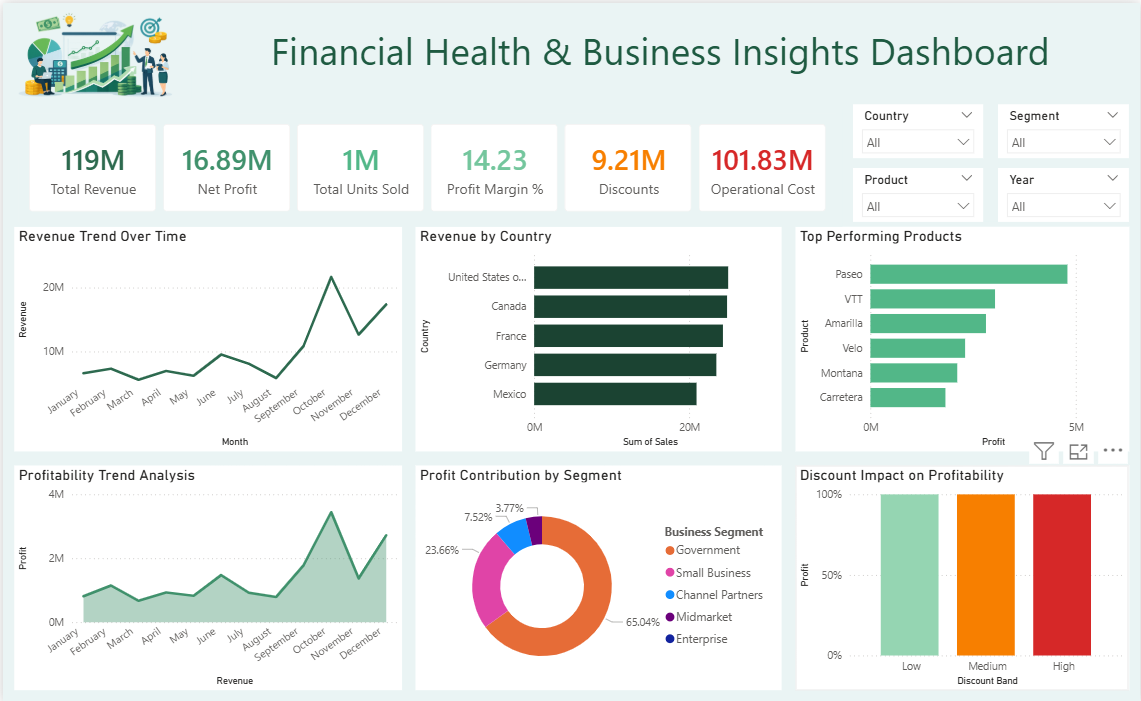

Layout of this report page (visuals, bound fields, positions):
{"tool":"powerbi","page":{"name":"Page 1","canvas":[1300,800],"ordinal":0},"visuals":[{"type":"slicer","fields":{"Values":["financials.Country"]},"box":[971.4,115.7,148.6,61.3],"z":0,"group":"g1"},{"type":"lineChart","title":"Revenue Trend Over Time","fields":{"Y":["Sum(financials. Sales)"],"Category":["financials.Date.Variation.Date Hierarchy.Month"]},"box":[12.9,255.7,442.9,257.1],"z":0},{"type":"slicer","fields":{"Values":["financials.Product"]},"box":[971.4,188.5,148.6,61.3],"z":1000,"group":"g1"},{"type":"stackedAreaChart","title":"Profitability Trend Analysis","fields":{"Category":["financials.Date.Variation.Date Hierarchy.Month"],"Y":["Sum(financials.Profit)"]},"box":[12.9,528.6,442.9,257.1],"z":1000},{"type":"slicer","fields":{"Values":["financials.Segment"]},"box":[1136.5,115.7,149.9,61.3],"z":2000,"group":"g1"},{"type":"clusteredBarChart","title":"Revenue by Country","fields":{"Y":["Sum(financials. Sales)"],"Category":["financials.Country"]},"box":[471.4,255.7,418.6,257.1],"z":2000},{"type":"slicer","fields":{"Values":["financials.Year"]},"box":[1136.5,188.5,149.9,61.3],"z":3000,"group":"g1"},{"type":"donutChart","title":"Profit Contribution by Segment","fields":{"Category":["financials.Segment"],"Y":["Sum(financials.Profit)"]},"box":[471.4,528.6,418.6,257.1],"z":3000},{"type":"barChart","title":"Top Performing Products","fields":{"Category":["financials.Product"],"Y":["Sum(financials.Profit)"]},"box":[905.7,255.7,381.4,257.1],"z":4000},{"type":"hundredPercentStackedColumnChart","title":"Discount Impact on Profitability","fields":{"Y":["Sum(financials.Profit)"],"Category":["financials.Discount Band"]},"box":[905.7,528.6,381.4,257.1],"z":5000},{"type":"cardVisual","fields":{"Data":["financials.Total Sales","financials.Total Profit","financials.Total Units Sold","financials.Profit Margin %","financials.Total Discounts","financials.Total COGS"]},"box":[13.4,122,946.4,134],"z":6000},{"type":"group","id":"g1","title":"Group 1","box":[971.4,115.7,315.7,134.3],"z":7000},{"type":"textbox","box":[215.8,20.1,1071.1,88.5],"z":8000},{"type":"image","box":[13.4,9.4,185,99.2],"z":9000}]}

Visuals, with their boxes in screenshot pixels (x1, y1, x2, y2), scaled from the page's 1300x800 canvas onto the 1141x701 screenshot:
slicer - financials.Country: Rect(853, 101, 983, 155)
"Revenue Trend Over Time" lineChart: Rect(11, 224, 400, 449)
slicer - financials.Product: Rect(853, 165, 983, 219)
"Profitability Trend Analysis" stackedAreaChart: Rect(11, 463, 400, 688)
slicer - financials.Segment: Rect(997, 101, 1129, 155)
"Revenue by Country" clusteredBarChart: Rect(414, 224, 781, 449)
slicer - financials.Year: Rect(997, 165, 1129, 219)
"Profit Contribution by Segment" donutChart: Rect(414, 463, 781, 688)
"Top Performing Products" barChart: Rect(795, 224, 1130, 449)
"Discount Impact on Profitability" hundredPercentStackedColumnChart: Rect(795, 463, 1130, 688)
cardVisual - financials.Total Sales x financials.Total Profit: Rect(12, 107, 842, 224)
"Group 1" group: Rect(853, 101, 1130, 219)
textbox: Rect(189, 18, 1130, 95)
image: Rect(12, 8, 174, 95)
